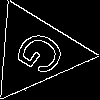G: (11, 27, 78, 86)
